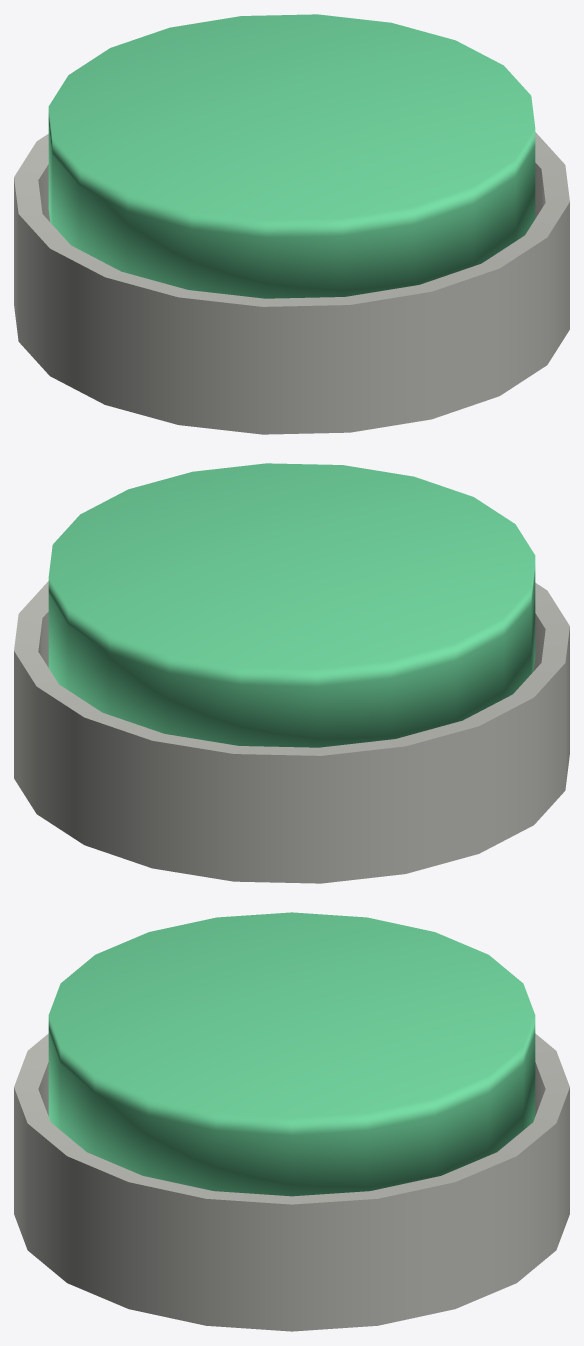
File: secondButton.fbx
3 renders of one model, top to bottom at view 1: azimuth 30°, elevation 25°; view 2: azimuth 150°, elevation 25°; view 3: azimuth 270°, elevation 25°, orthographic.
Parts seen in each view (by area): view 1: pCylinder5, pCylinder6; view 2: pCylinder5, pCylinder6; view 3: pCylinder5, pCylinder6.
Part boxes in pixels (<box>): pCylinder5: <box>48,14,535,298</box>; pCylinder6: <box>14,132,569,434</box>; pCylinder5: <box>48,463,535,747</box>; pCylinder6: <box>14,581,569,883</box>; pCylinder5: <box>48,912,535,1196</box>; pCylinder6: <box>14,1033,569,1331</box>.
Bounding box in the file's own units: 13.51 × 5.33 × 13.51.
